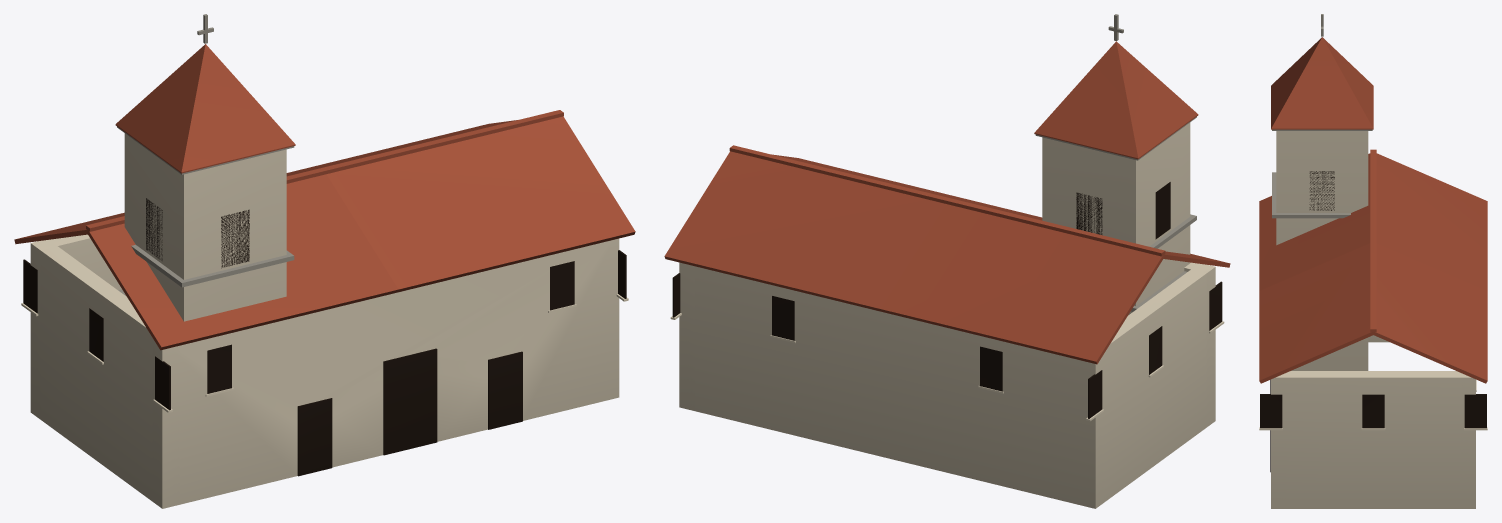
File: colonial_catedral_lod1.glb
3 renders of one model, left to right at view 1: azimuth 30°, elevation 25°; view 2: azimuth 150°, elevation 25°; view 3: azimuth 270°, elevation 25°, orthographic. The views are drawn at different scales.
Visible parts, largest first — view 1: GEO-Arch_colonial_catedral_LOD1; view 2: GEO-Arch_colonial_catedral_LOD1; view 3: GEO-Arch_colonial_catedral_LOD1.
Boxes of the visible parts, box(x1,y1,x2,y2) form: GEO-Arch_colonial_catedral_LOD1: box(14, 14, 635, 508); GEO-Arch_colonial_catedral_LOD1: box(664, 14, 1230, 508); GEO-Arch_colonial_catedral_LOD1: box(1259, 14, 1487, 508).
Bounding box in the file's own units: 24.9 × 22.65 × 13.4.
